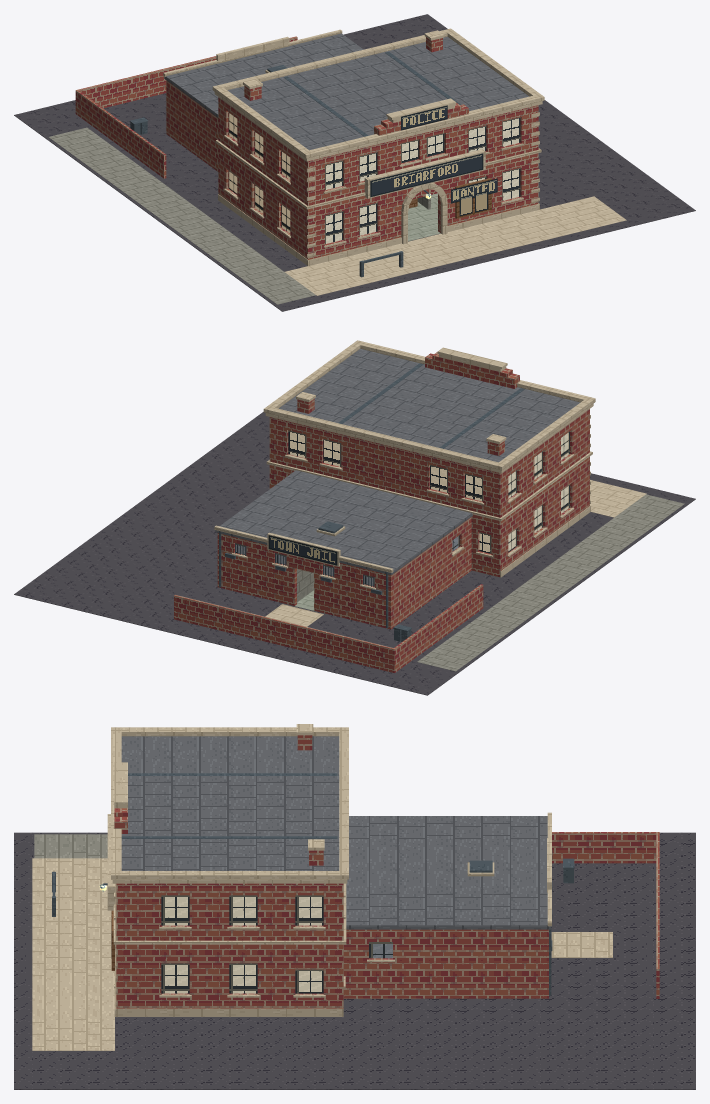
File: briarford-1900.glb
3 renders of one model, top to bottom at view 1: azimuth 30°, elevation 25°; view 2: azimuth 150°, elevation 25°; view 3: azimuth 270°, elevation 25°, orthographic. The views are drawn at different scales.
Visible parts, largest first — view 1: shell, lot, yard_fence, sign_name, interior; view 2: shell, lot, yard_fence, interior; view 3: shell, lot, yard_fence.
Part boxes in pixels (<box>): shell: <box>163,28,544,266</box>; lot: <box>14,14,695,311</box>; yard_fence: <box>75,36,297,178</box>; sign_name: <box>370,153,483,197</box>; interior: <box>217,171,440,241</box>; shell: <box>214,340,595,629</box>; lot: <box>14,412,695,695</box>; yard_fence: <box>174,584,483,672</box>; interior: <box>290,569,499,611</box>; shell: <box>99,724,551,1016</box>; lot: <box>14,832,695,1089</box>; yard_fence: <box>552,832,659,998</box>.
Size of what is drawn, in the model's own units: 26.7 by 7.93 by 30.
Materials: 12 (12 with a texture image).
